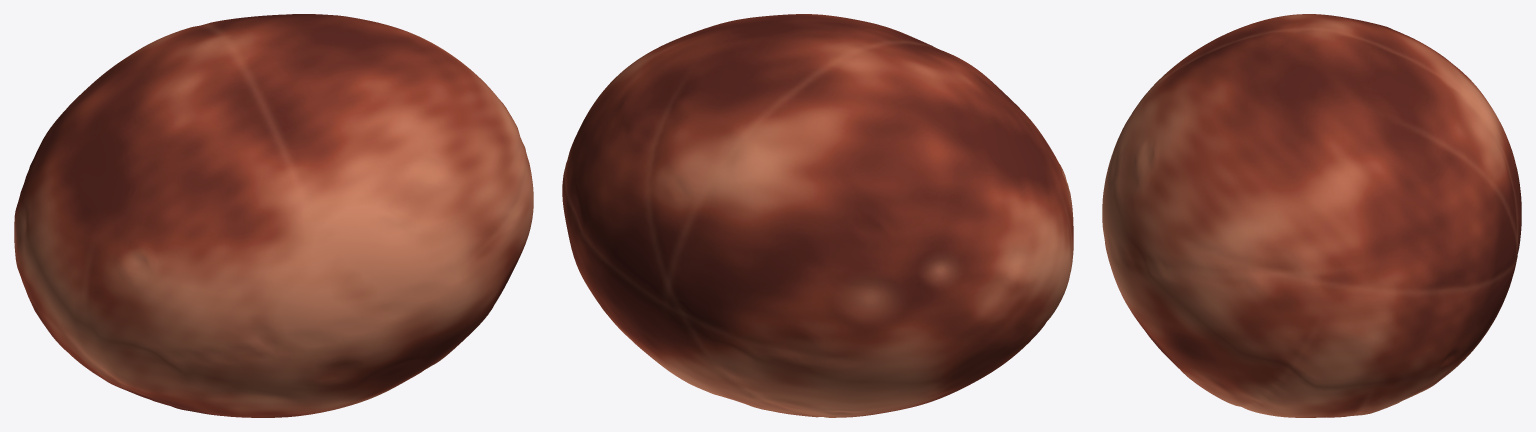
The model's file is nw189_secondary.glb.
The picture shows the model from 3 angles, left to right: view 1: azimuth 30°, elevation 25°; view 2: azimuth 150°, elevation 25°; view 3: azimuth 270°, elevation 25°; orthographic projection. The views are drawn at different scales.
Parts seen in each view (by area): view 1: nw189_secondary_body; view 2: nw189_secondary_body; view 3: nw189_secondary_body.
Boxes of the visible parts, x1,y1,x2,y2 form: nw189_secondary_body: (14,14,533,417); nw189_secondary_body: (562,14,1073,417); nw189_secondary_body: (1102,14,1521,417).
Size of the model in its own units: 2.38 by 1.73 by 1.92.
Materials: 1 (1 with a texture image).
